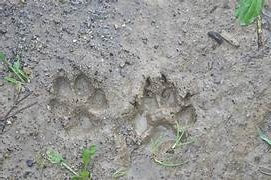fox: (183, 106, 227, 141), (135, 134, 177, 168), (153, 75, 190, 112), (78, 120, 114, 158), (119, 66, 155, 101), (114, 103, 150, 138)
